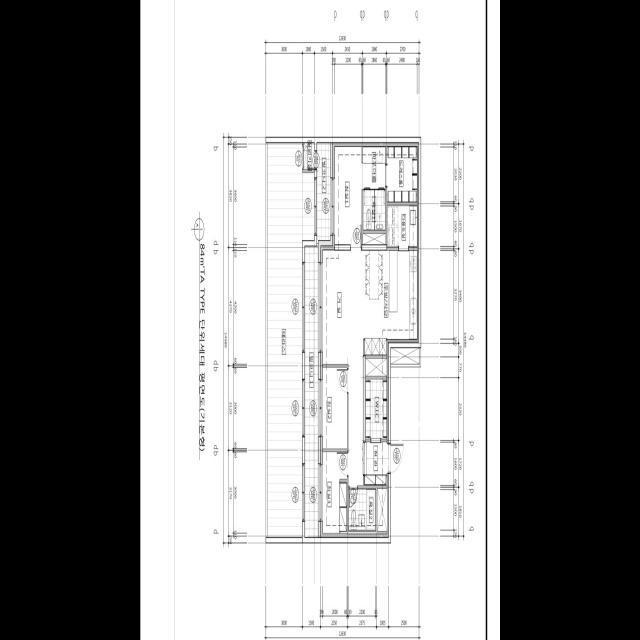background: (140, 0, 500, 640)
space_balconi: (304, 143, 330, 537)
space_bedroom: (333, 143, 361, 248), (321, 451, 347, 537), (320, 367, 347, 449)
space_dressroom: (387, 143, 418, 202), (362, 143, 386, 189)
space_front: (363, 442, 388, 486)
space_kitchen: (362, 250, 418, 355)
space_living_room: (320, 246, 363, 486)
space_multipurpose_space: (387, 206, 418, 247)
space_other: (365, 379, 388, 439), (390, 348, 419, 364), (377, 489, 388, 531), (365, 358, 388, 376), (363, 233, 385, 245)
space_outdoor_room: (303, 143, 314, 170)
space_toilet: (348, 489, 375, 531), (363, 190, 385, 230)
